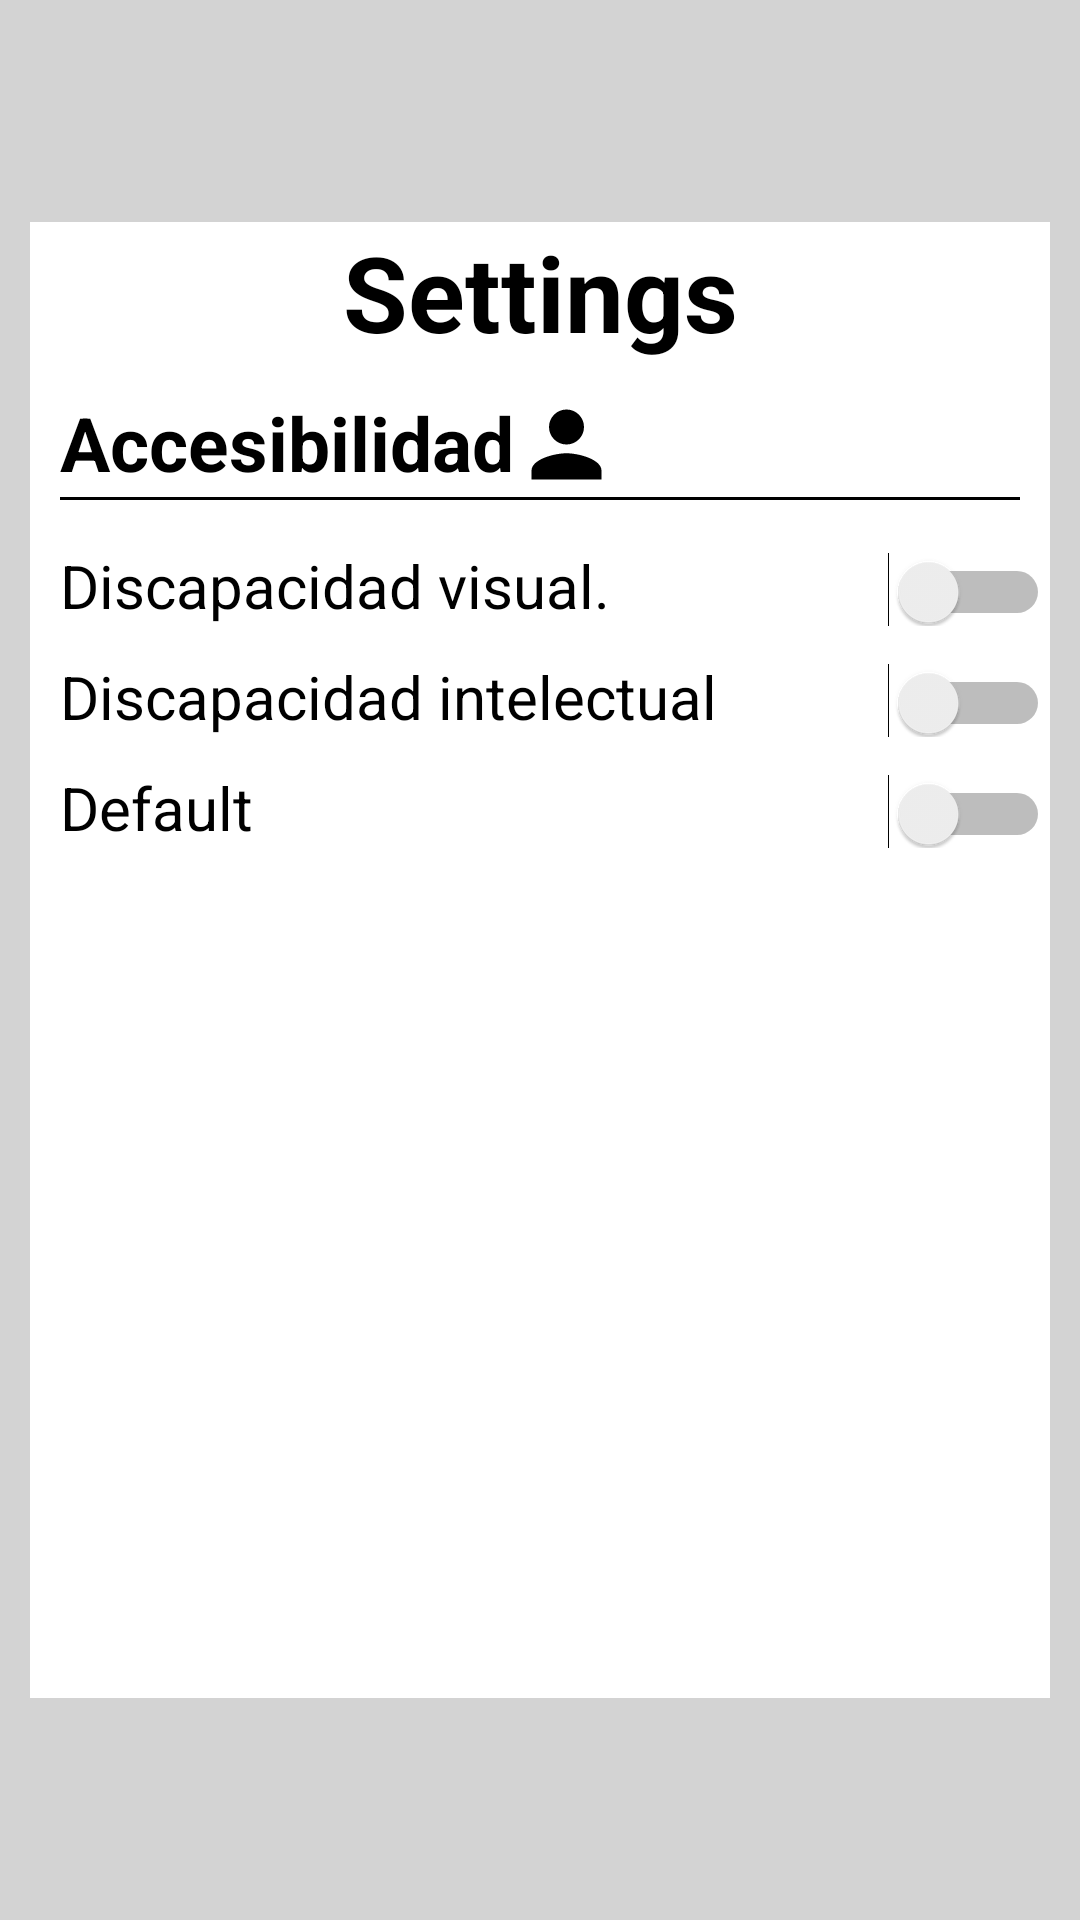

Icon bounding boxes for this 1080 × 1920 phone screenshot, format (x1, y1, x2, y2):
person: (531, 409, 602, 480)
